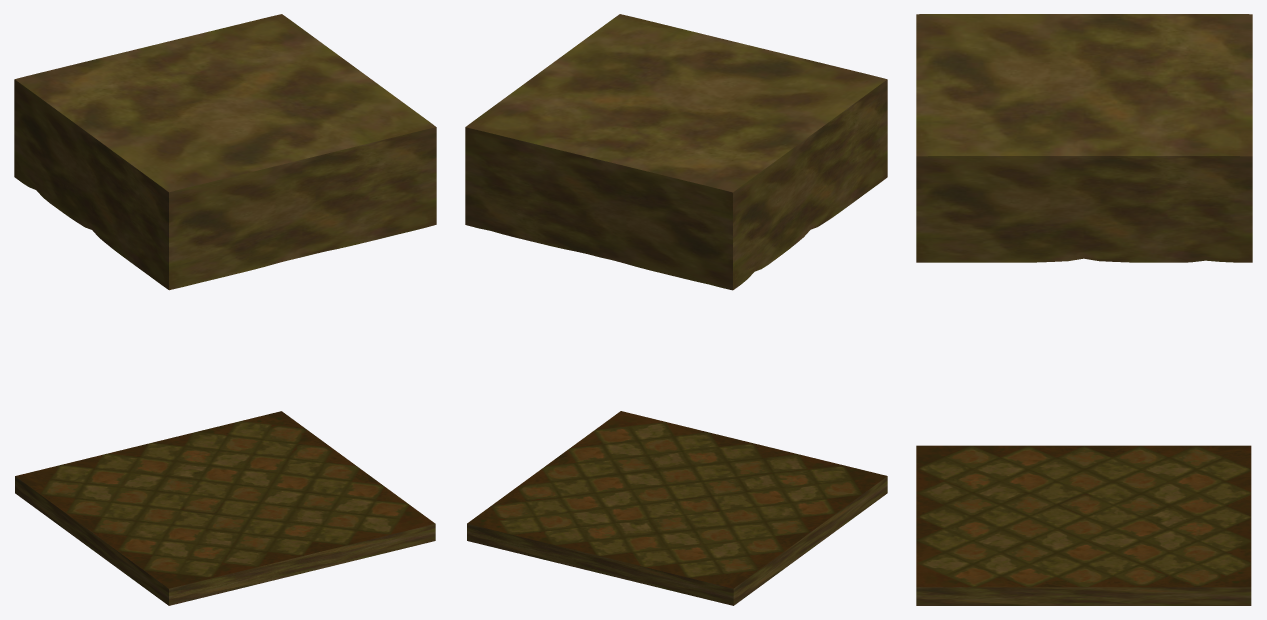
Rendered from sol-plafond_poli.obj.
3 views of the same model, side by side, from view 1: azimuth 30°, elevation 25°; view 2: azimuth 150°, elevation 25°; view 3: azimuth 270°, elevation 25° (orthographic). The views are drawn at different scales.
Parts seen in each view (by area): view 1: Cube; view 2: Cube; view 3: Cube.
Boxes of the visible parts, x1,y1,x2,y2 form: Cube: (14, 14, 436, 605); Cube: (465, 14, 887, 605); Cube: (916, 14, 1252, 605).
Bounding box in the file's own units: 2.01 × 2.97 × 2.01.
Materials: 3 (3 with a texture image).
